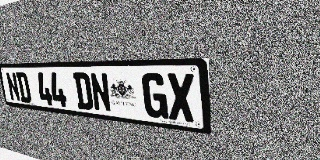4: (48, 72, 67, 107), (35, 72, 53, 106)
D: (73, 72, 94, 110), (15, 72, 32, 103)
G: (141, 73, 168, 119)
N: (89, 73, 112, 113), (5, 72, 21, 102)
X: (166, 73, 196, 123)
